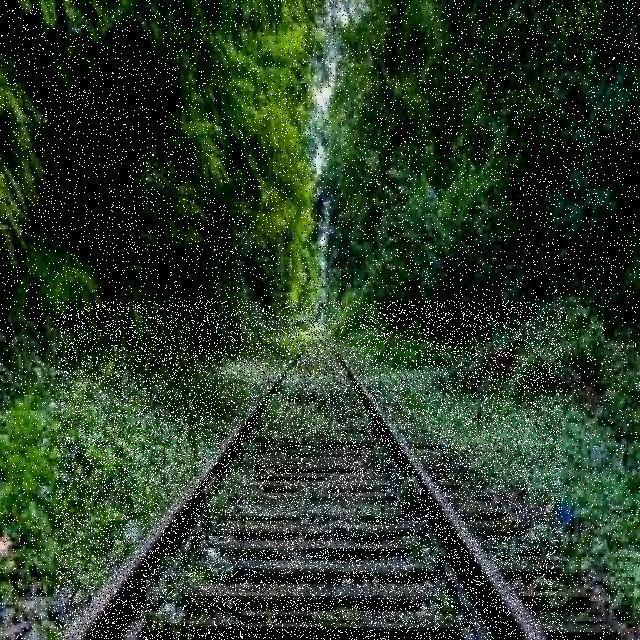rail: (58, 303, 563, 640)
